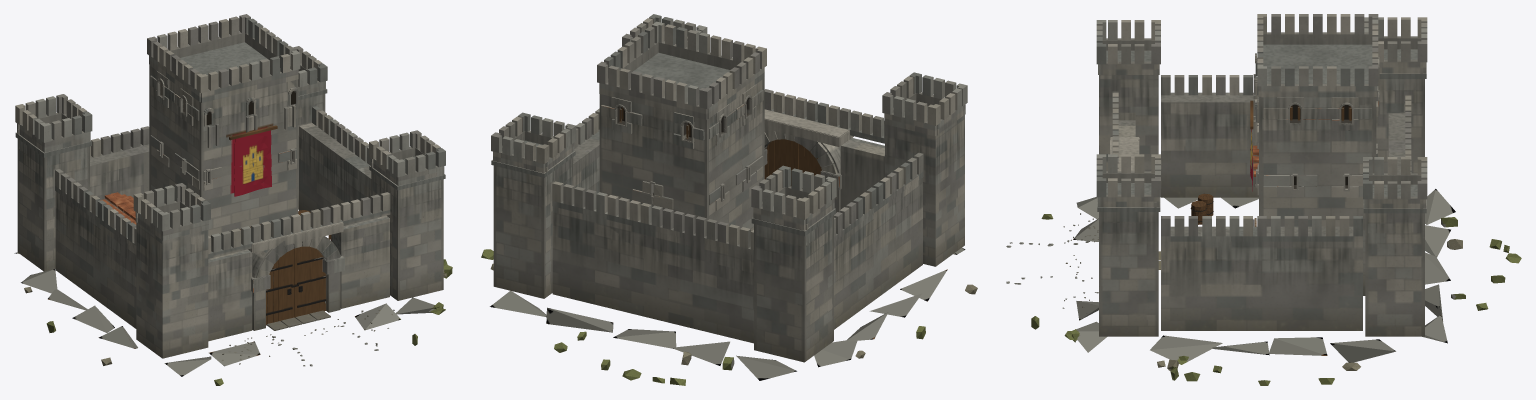
The model's file is SM_CastillaV11_LOD0.fbx.
3 renders of one model, left to right at view 1: azimuth 30°, elevation 25°; view 2: azimuth 150°, elevation 25°; view 3: azimuth 270°, elevation 25°, orthographic. The views are drawn at different scales.
Parts seen in each view (by area): view 1: SM_CastillaV11_LOD0; view 2: SM_CastillaV11_LOD0; view 3: SM_CastillaV11_LOD0.
Boxes of the visible parts, bbox=[...] form: SM_CastillaV11_LOD0: bbox=[14, 14, 452, 385]; SM_CastillaV11_LOD0: bbox=[481, 14, 977, 385]; SM_CastillaV11_LOD0: bbox=[1006, 14, 1521, 385].
Bounding box in the file's own units: 125 × 70.79 × 131.
Materials: 2 (2 with a texture image).
